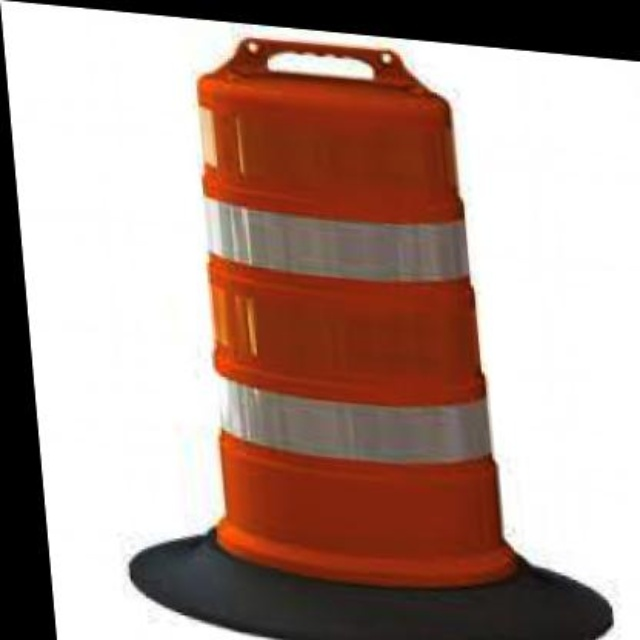obstacle: (152, 28, 538, 604)
